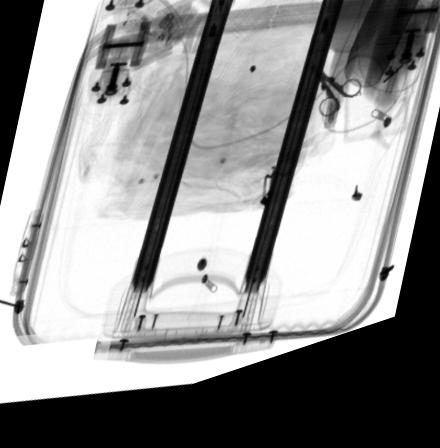Scissors: (312, 82, 361, 139)
